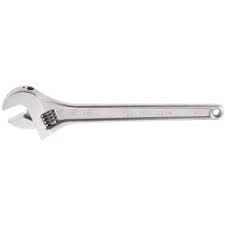Wrench: (3, 65, 225, 143)
